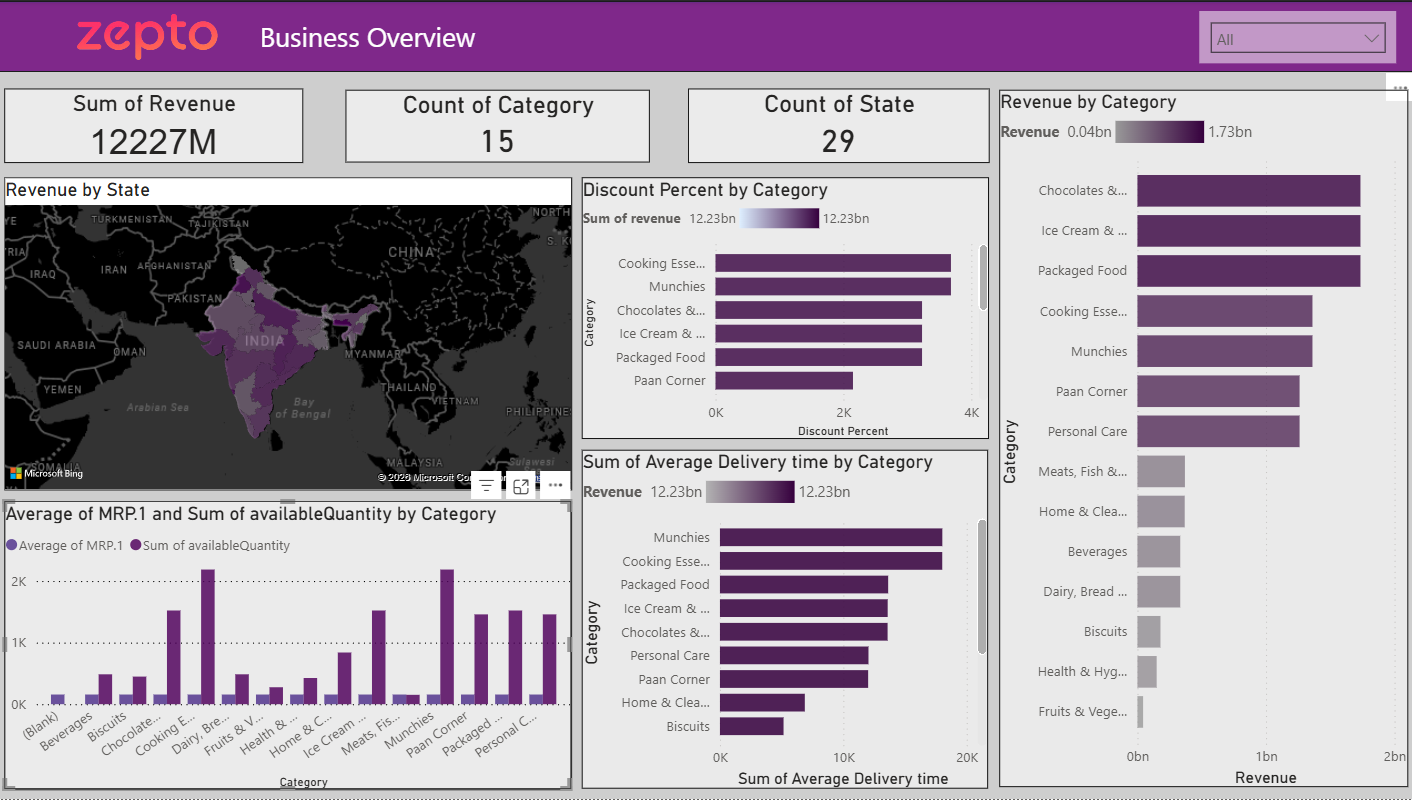

This screenshot's page, from the dashboard's own definition file:
{"tool":"powerbi","page":{"name":"Page 1","canvas":[1280,720],"ordinal":0},"visuals":[{"type":"shape","box":[0,0,1279.5,64.1],"z":0},{"type":"image","box":[64.7,0,140.6,64.7],"z":1000},{"type":"textbox","box":[231.4,11.2,332.1,42.3],"z":2000},{"type":"slicer","fields":{"Values":["Sheet1 (2).State"]},"box":[1083.5,8.7,177.9,47.3],"z":3000},{"type":"filledMap","fields":{"Category":["Sheet1 (2).State"]},"box":[5.8,159.3,511.6,282.6],"z":4000},{"type":"clusteredBarChart","fields":{"Y":["Sum(Sheet1.discountPercent)"],"Category":["Sheet1.Category"]},"box":[526.7,159.3,367.4,236],"z":5000},{"type":"card","title":"Sum of Revenue","fields":{"Values":["Sum(Sheet1.revenue)"]},"box":[6.1,79.3,269.5,67.1],"z":6000},{"type":"clusteredBarChart","fields":{"Y":["Sum(Sheet1 (2).revenue)"],"Category":["Sheet1 (2).Category"]},"box":[902.3,80.2,368.6,629.1],"z":7000},{"type":"lineClusteredColumnComboChart","fields":{"Y":["Avg(Sheet1 (2).MRP.1)","Sum(Sheet1.availableQuantity)"],"Category":["Sheet1.Category"]},"box":[5.8,451.2,511.6,260.5],"z":8000},{"type":"card","title":"Count of State","fields":{"Values":["Count(Sheet1.State)"]},"box":[622,79.3,272,67.1],"z":9000},{"type":"card","title":"Count of Category","fields":{"Values":["Count(Sheet1.Category)"]},"box":[313.4,80.5,274.4,65.9],"z":10000},{"type":"clusteredBarChart","fields":{"Y":["Sum(Sheet1.Average Delivery time)"],"Category":["Sheet1.Category"]},"box":[526.7,404.7,366.3,305.8],"z":11000}]}

Visuals, with their boxes in screenshot pixels (x1, y1, x2, y2), scaled from the page's 1280x720 canvas onto the 1412x800 screenshot:
shape: <bbox>0, 0, 1411, 71</bbox>
image: <bbox>71, 0, 226, 72</bbox>
textbox: <bbox>255, 12, 622, 59</bbox>
slicer - Sheet1 (2).State: <bbox>1195, 10, 1391, 62</bbox>
filledMap - Sheet1 (2).State: <bbox>6, 177, 571, 491</bbox>
clusteredBarChart - Sum(Sheet1.discountPercent) x Sheet1.Category: <bbox>581, 177, 986, 439</bbox>
"Sum of Revenue" card: <bbox>7, 88, 304, 163</bbox>
clusteredBarChart - Sum(Sheet1 (2).revenue) x Sheet1 (2).Category: <bbox>995, 89, 1402, 788</bbox>
lineClusteredColumnComboChart - Avg(Sheet1 (2).MRP.1) x Sum(Sheet1.availableQuantity): <bbox>6, 501, 571, 791</bbox>
"Count of State" card: <bbox>686, 88, 986, 163</bbox>
"Count of Category" card: <bbox>346, 89, 648, 163</bbox>
clusteredBarChart - Sum(Sheet1.Average Delivery time) x Sheet1.Category: <bbox>581, 450, 985, 789</bbox>
